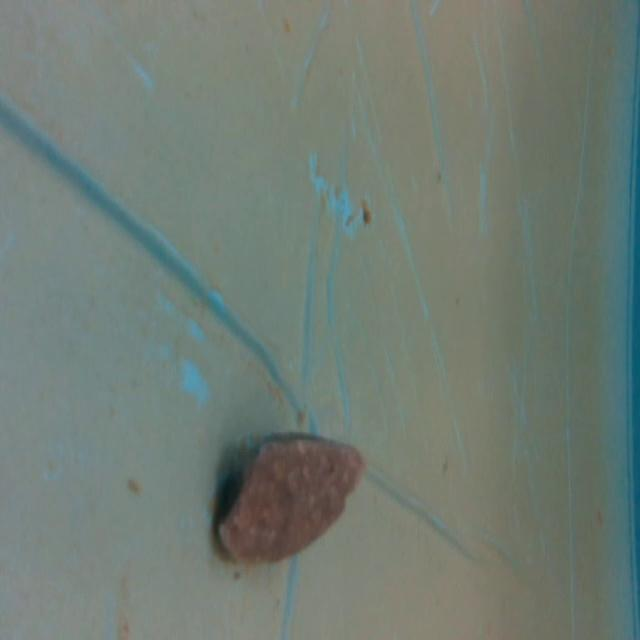rock: (208, 429, 365, 575)
